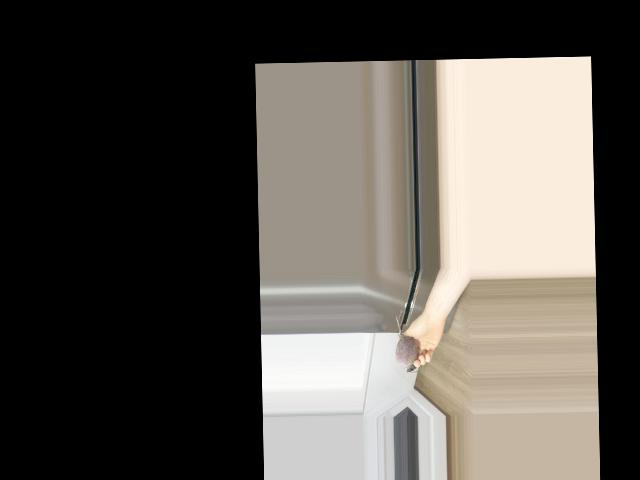beet: (394, 316, 418, 373)
